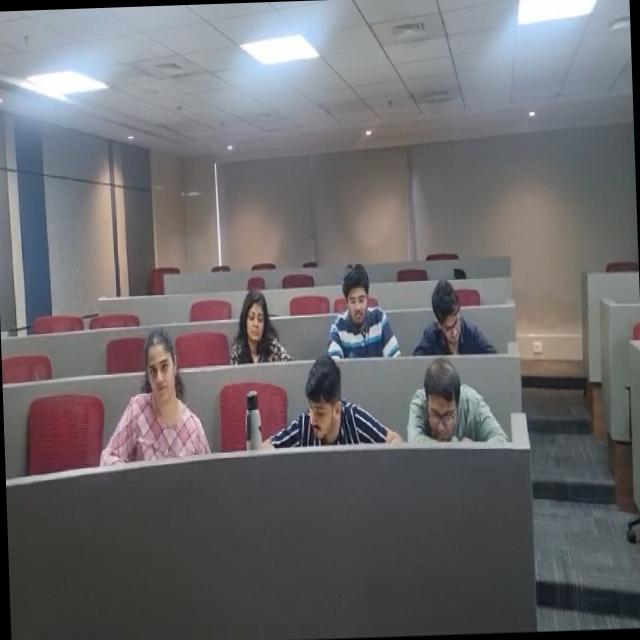cheating: (407, 352, 472, 452), (295, 368, 359, 446)
non-cheating: (113, 326, 196, 417), (328, 258, 399, 346), (417, 277, 499, 347), (228, 294, 290, 362)
